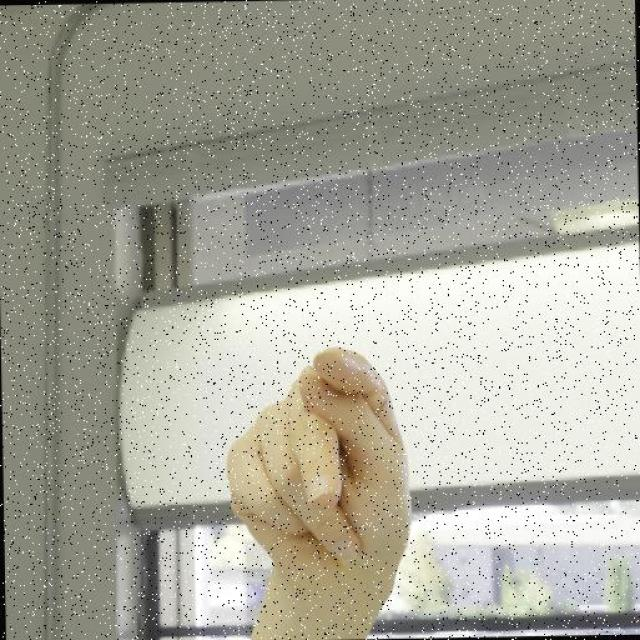P: (220, 341, 416, 605)
